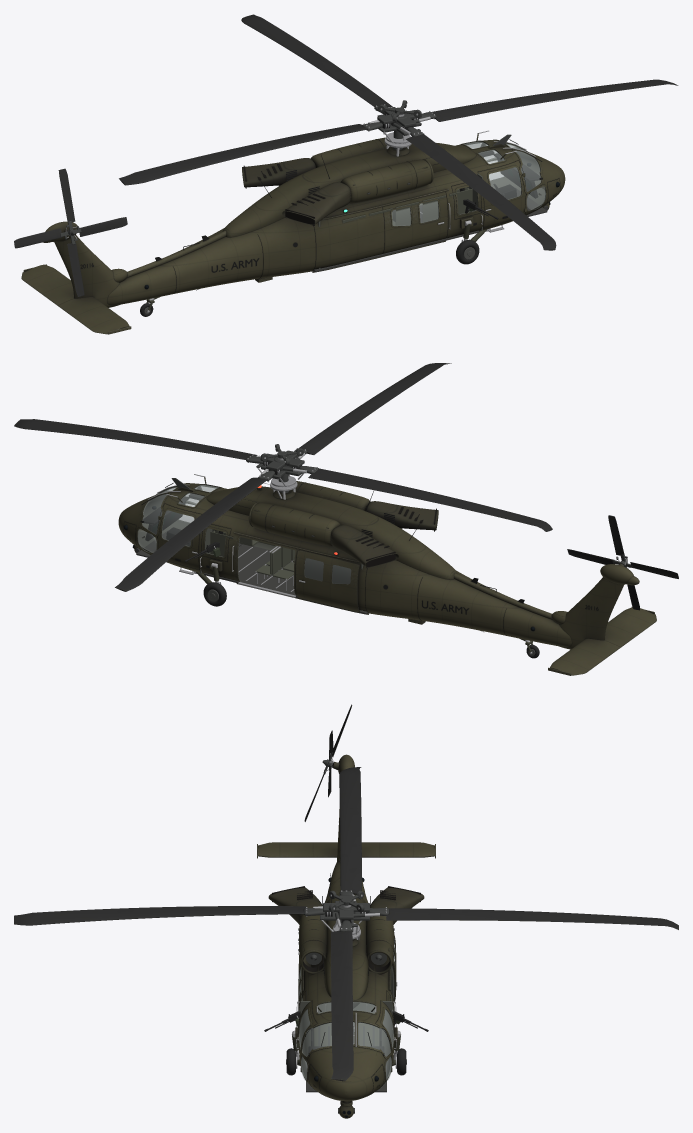
Rendered from blackhawk.glb.
3 views of the same model, one above another, from view 1: azimuth 30°, elevation 25°; view 2: azimuth 150°, elevation 25°; view 3: azimuth 270°, elevation 25° (orthographic). The views are drawn at different scales.
Visible parts, largest first — view 1: hull, doghouse, mr_blade2, mr_blade3, nacelle.001, mr_blade0, mr_blade1, pylon, glass_cockpit, stab_L, hirss.001, hirss (+9 smaller); view 2: hull, doghouse, mr_blade1, mr_blade2, cabin_door_L, nacelle, pylon, mr_blade0, mr_blade3, cabin_floor, glass_cockpit, stab_R (+10 smaller); view 3: hull, mr_blade0, mr_blade3, mr_blade1, mr_blade2, glass_cockpit, doghouse, stab_L, stab_R, nacelle.001, nacelle, frames_cockpit (+3 smaller).
Boxes of the visible parts, bbox=[...] form: hull: bbox=[107, 140, 565, 305]; doghouse: bbox=[222, 143, 476, 237]; mr_blade2: bbox=[119, 124, 367, 185]; mr_blade3: bbox=[406, 134, 556, 250]; nacelle.001: bbox=[340, 159, 431, 203]; mr_blade0: bbox=[431, 79, 678, 121]; mr_blade1: bbox=[241, 14, 392, 107]; pylon: bbox=[54, 235, 119, 307]; glass_cockpit: bbox=[464, 142, 540, 199]; stab_L: bbox=[58, 297, 129, 334]; hirss.001: bbox=[282, 182, 350, 224]; hirss: bbox=[242, 158, 315, 187]; hull: bbox=[118, 483, 571, 646]; doghouse: bbox=[206, 486, 457, 579]; mr_blade1: bbox=[115, 477, 267, 591]; mr_blade2: bbox=[308, 468, 552, 531]; cabin_door_L: bbox=[296, 550, 359, 612]; nacelle: bbox=[250, 503, 340, 546]; pylon: bbox=[559, 577, 623, 649]; mr_blade0: bbox=[14, 419, 257, 459]; mr_blade3: bbox=[299, 363, 451, 454]; cabin_floor: bbox=[204, 544, 367, 614]; glass_cockpit: bbox=[142, 485, 218, 546]; stab_R: bbox=[550, 638, 620, 675]; hull: bbox=[298, 862, 394, 1100]; mr_blade0: bbox=[331, 930, 353, 1081]; mr_blade3: bbox=[14, 906, 306, 925]; mr_blade1: bbox=[386, 908, 678, 929]; mr_blade2: bbox=[339, 767, 361, 894]; glass_cockpit: bbox=[299, 1002, 393, 1056]; doghouse: bbox=[324, 893, 368, 1008]; stab_L: bbox=[257, 842, 337, 857]; stab_R: bbox=[361, 842, 435, 857]; nacelle.001: bbox=[299, 914, 326, 966]; nacelle: bbox=[366, 915, 393, 966]; frames_cockpit: bbox=[298, 1000, 394, 1081].
Bounding box in the file's own units: 19.9 × 4.74 × 16.36.
25 materials, 4 textured.
